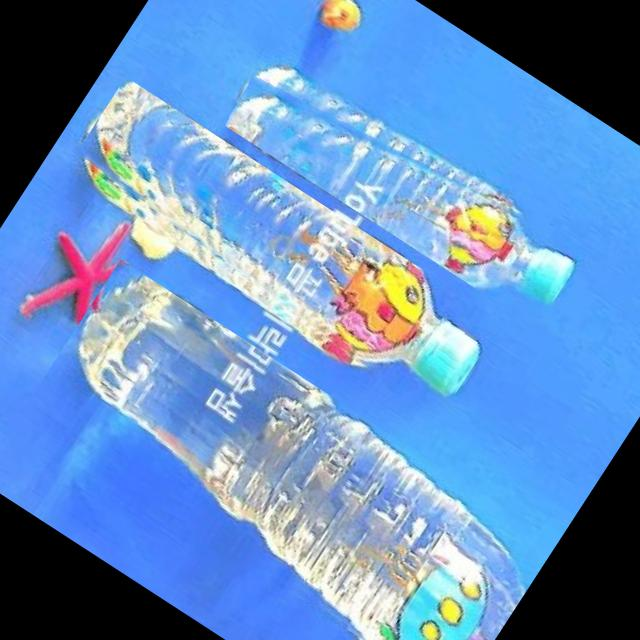plastic bottle: (14, 259, 555, 640), (60, 76, 501, 419), (220, 44, 586, 327)
